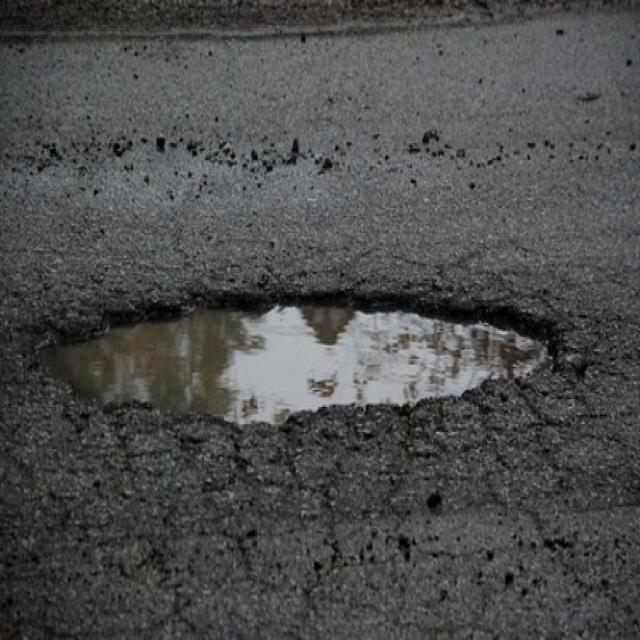Pothole: (33, 276, 563, 434)
